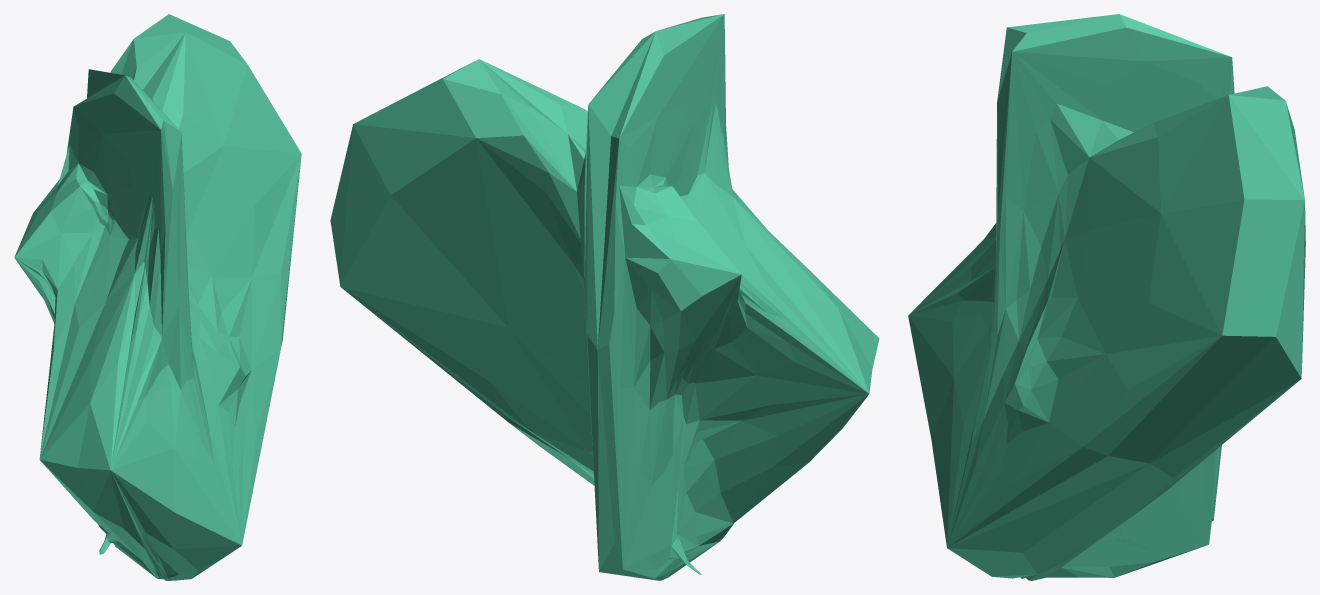
The picture shows the model from 3 angles, left to right: view 1: azimuth 30°, elevation 25°; view 2: azimuth 150°, elevation 25°; view 3: azimuth 270°, elevation 25°; orthographic projection. The views are drawn at different scales.
Visible parts, largest first — view 1: 886_Cube.3579; view 2: 886_Cube.3579; view 3: 886_Cube.3579.
Boxes of the visible parts, x1,y1,x2,y2 form: 886_Cube.3579: (14,14,301,580); 886_Cube.3579: (330,14,879,580); 886_Cube.3579: (908,14,1305,580).
Bounding box in the file's own units: 9.18 × 11.77 × 7.51.
